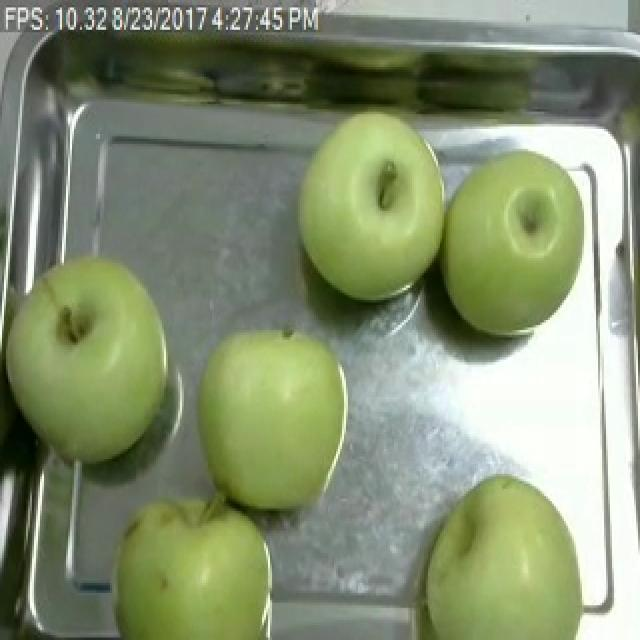50-_ripeness: (0, 250, 177, 464), (296, 106, 446, 314), (199, 318, 353, 506), (441, 149, 592, 338), (423, 466, 586, 640), (106, 493, 290, 640)
